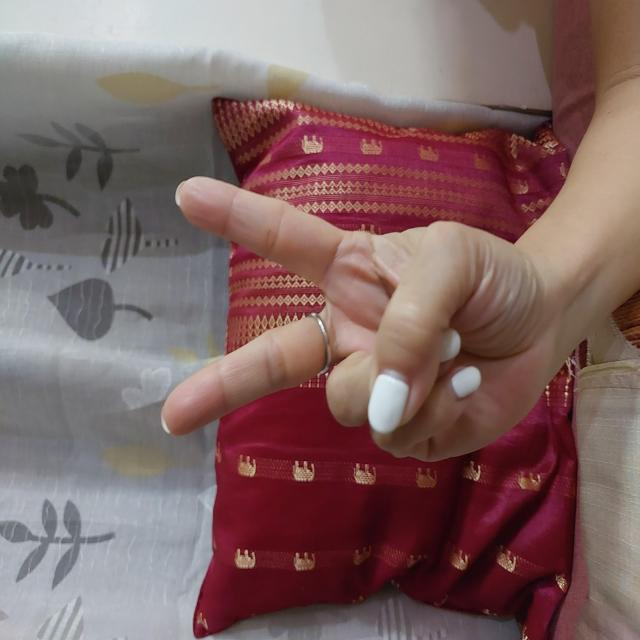V: (174, 158, 466, 548)
